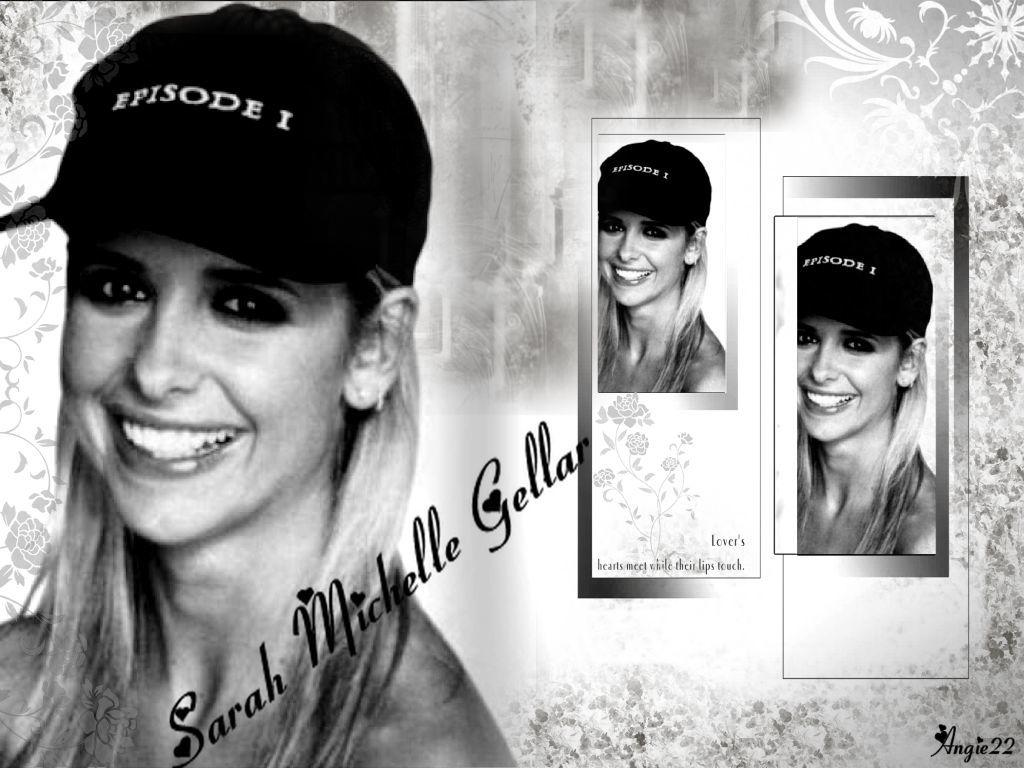Hat: (0, 4, 435, 286), (793, 222, 933, 336), (600, 138, 710, 226)
